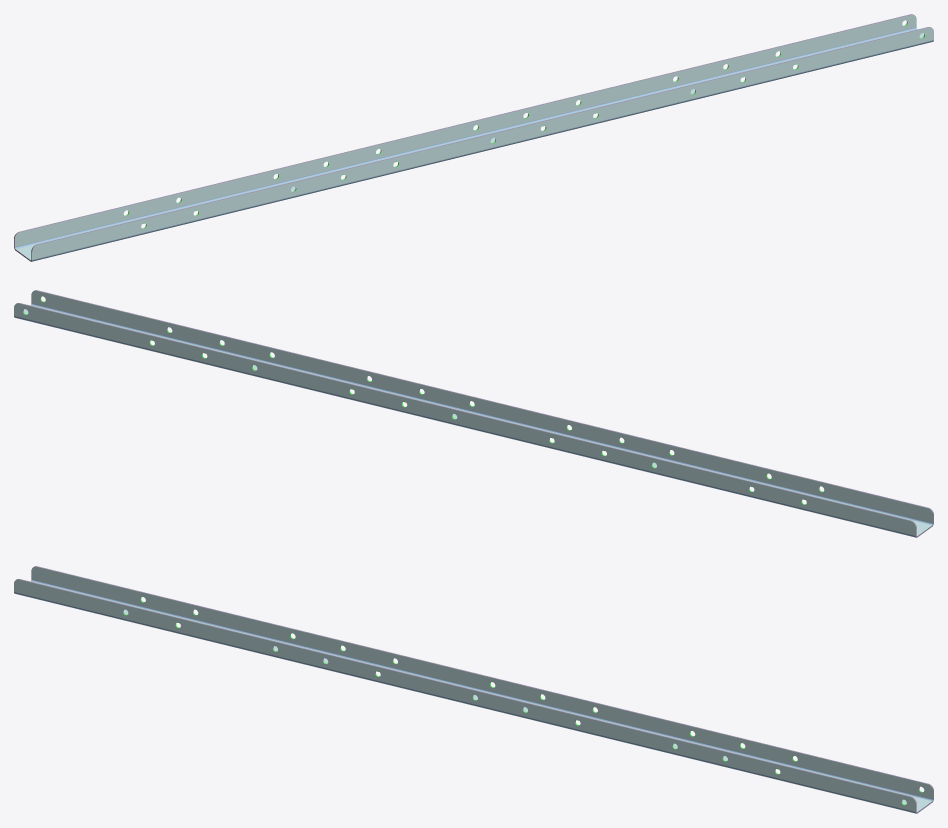
File: ALU_060_Door_LED_Rail_0-1-1-1_1_colored.glb
3 views of the same model, one above another, from view 1: azimuth 30°, elevation 25°; view 2: azimuth 150°, elevation 25°; view 3: azimuth 330°, elevation 25° (orthographic).
Visible parts, largest first — view 1: Featured solid; view 2: Featured solid; view 3: Featured solid.
Part boxes in pixels (left/top/right/bottom): Featured solid: left=14, top=14, right=933, bottom=261; Featured solid: left=14, top=290, right=933, bottom=537; Featured solid: left=14, top=566, right=933, bottom=813.
Bounding box in the file's own units: 1092 × 19.05 × 38.1.
